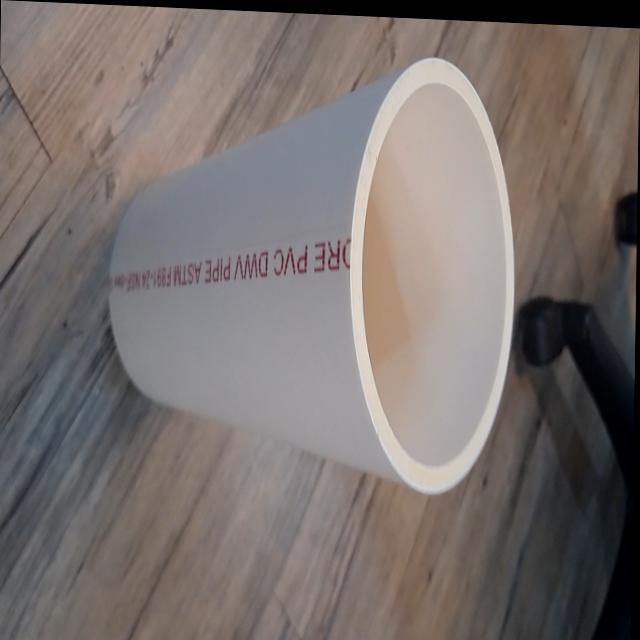CORAL: (100, 47, 520, 506)
